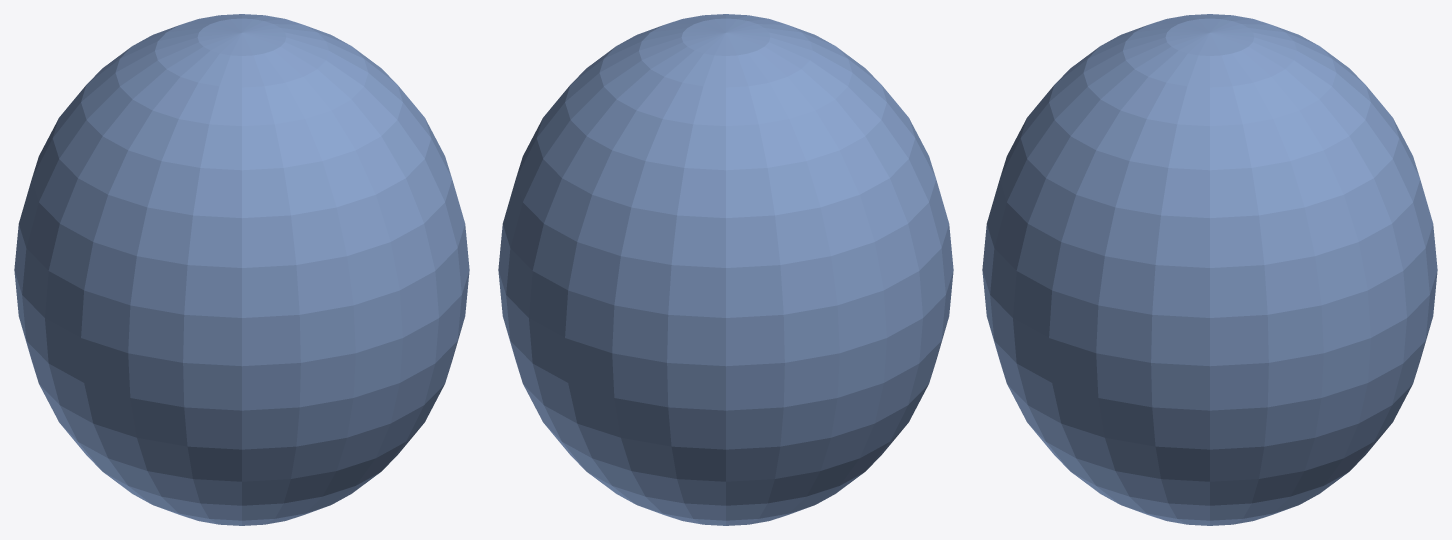
File: beanie.glb
3 renders of one model, left to right at view 1: azimuth 30°, elevation 25°; view 2: azimuth 150°, elevation 25°; view 3: azimuth 270°, elevation 25°, orthographic.
Visible parts, largest first — view 1: beanie; view 2: beanie; view 3: beanie.
Part boxes in pixels (x1,y1,x2,y2): beanie: (14,14,469,525); beanie: (498,14,953,525); beanie: (982,14,1437,525).
Size of the model in its own units: 0.234 by 0.2691 by 0.234.
